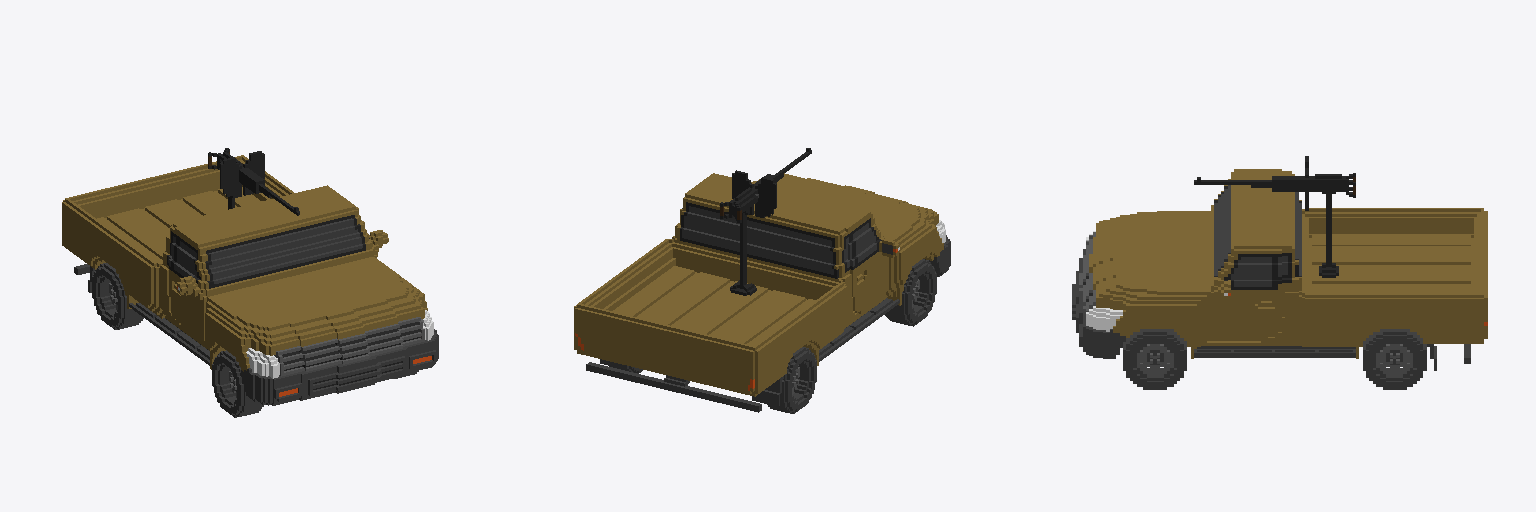
The picture shows the model from 3 angles: view 1: azimuth 30°, elevation 25°; view 2: azimuth 150°, elevation 25°; view 3: azimuth 270°, elevation 25°; orthographic projection.
Visible parts, largest first — view 1: object 1; view 2: object 1; view 3: object 1.
Boxes of the visible parts, <box> form: object 1: <box>62,148,438,417</box>; object 1: <box>574,148,950,413</box>; object 1: <box>1072,156,1487,389</box>.
Bounding box in the file's own units: 7.1 × 5.9 × 12.3.
1 materials, 1 textured.